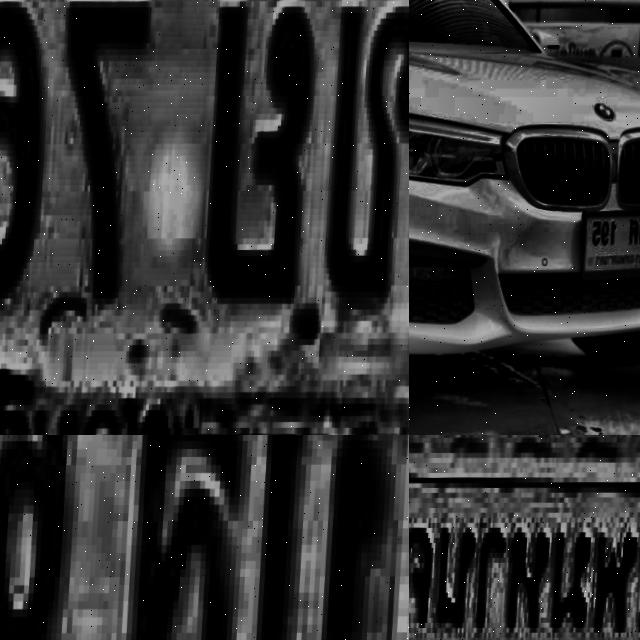license-plate: (0, 0, 409, 435), (0, 435, 409, 640), (409, 435, 640, 640), (583, 203, 640, 277)
